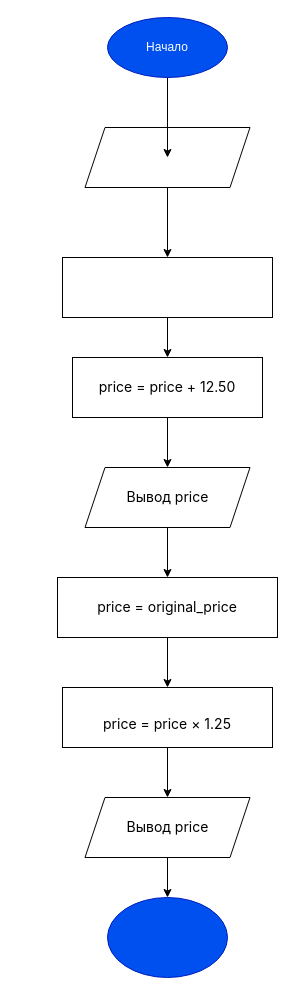
The diagram is 295 pixels wide and 995 high, and some of its shapes have lost their labels. The box of each missing label's shape, as (x1, y1, x2, y2) in pixels:
original_price = price: (62, 256, 272, 318)
Ввод price: (84, 126, 250, 188)
Конец: (106, 896, 228, 978)
